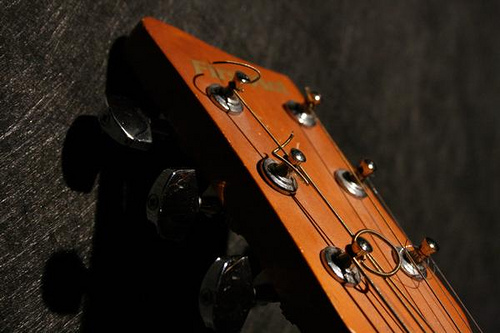guitar: (109, 16, 474, 333)
